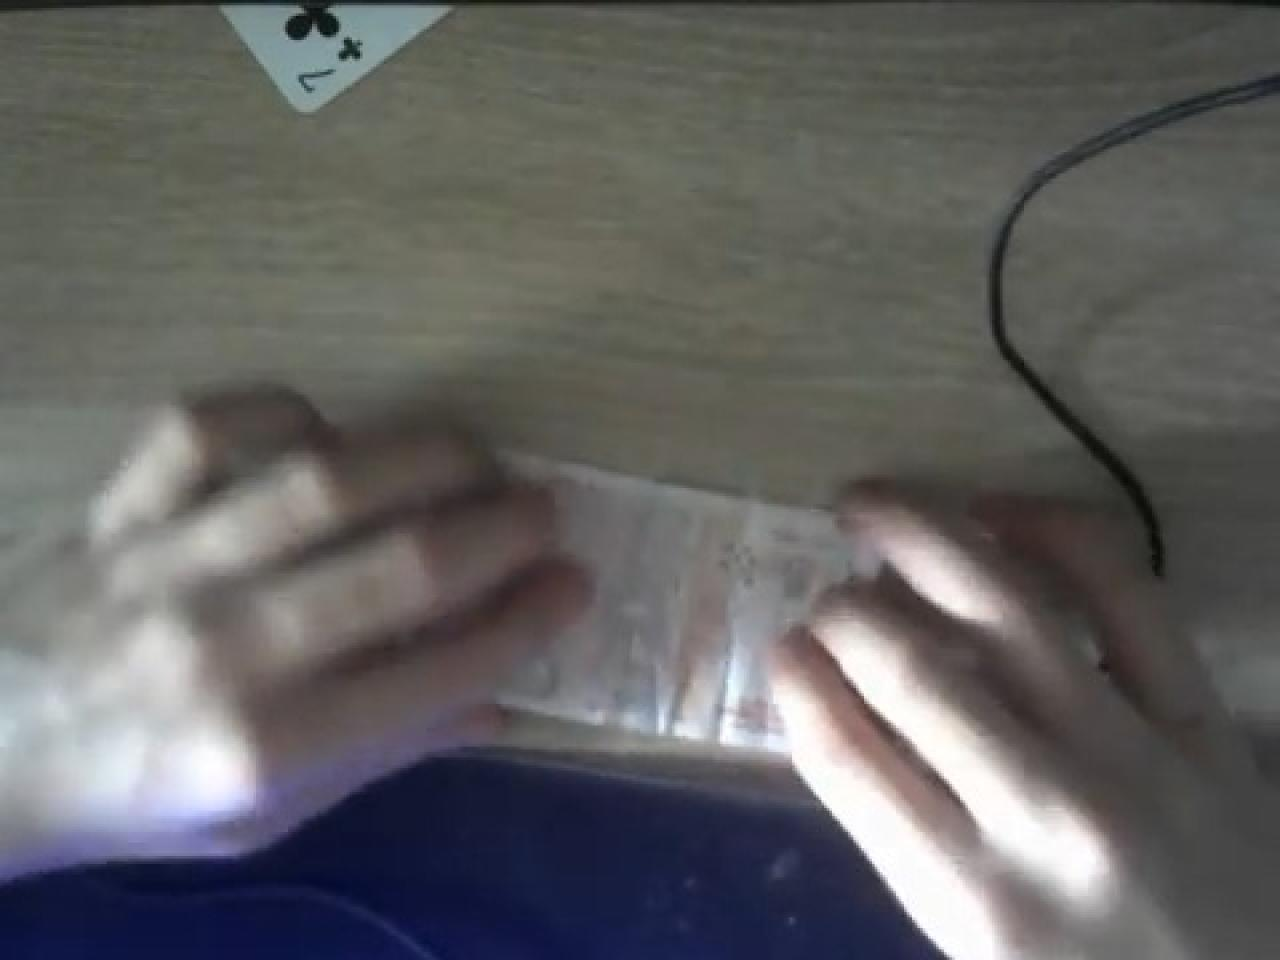5leva: (501, 461, 840, 757)
